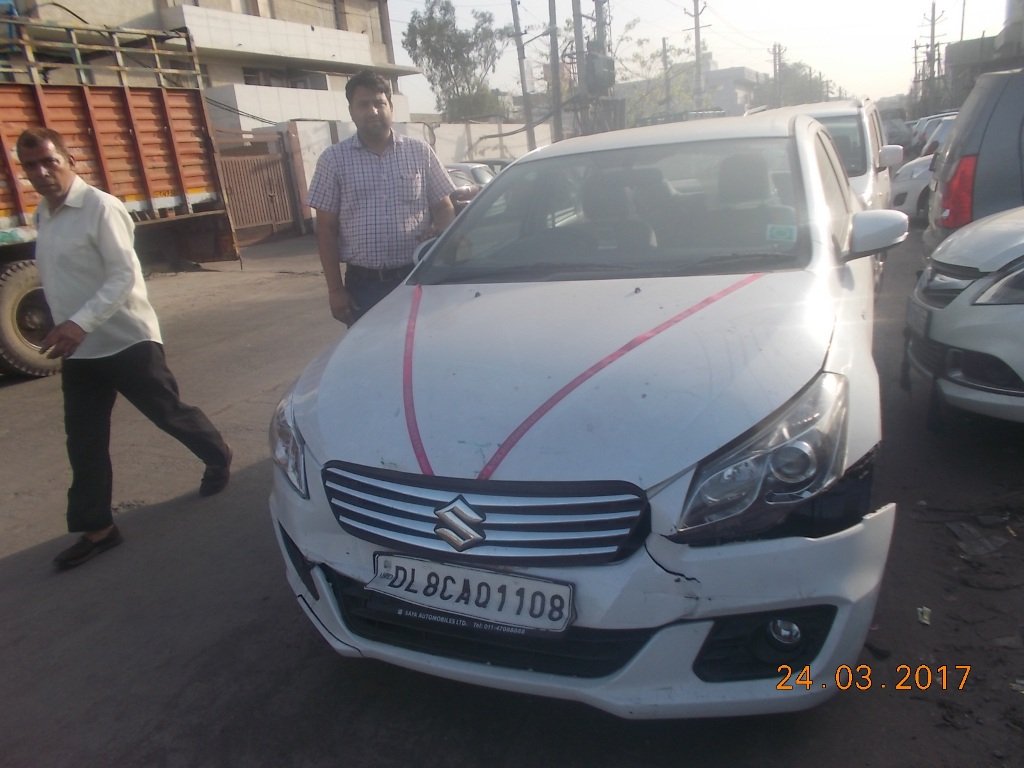Shatter: (402, 159, 662, 405), (234, 448, 406, 631)
